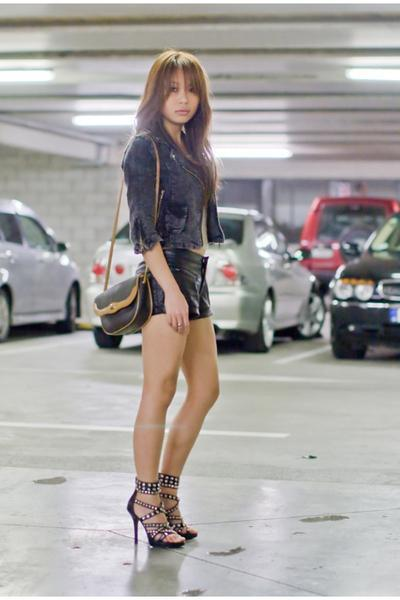bag: (95, 238, 165, 333)
jacket: (115, 138, 227, 255)
shoe: (127, 473, 196, 551)
shorts: (162, 242, 209, 320)
